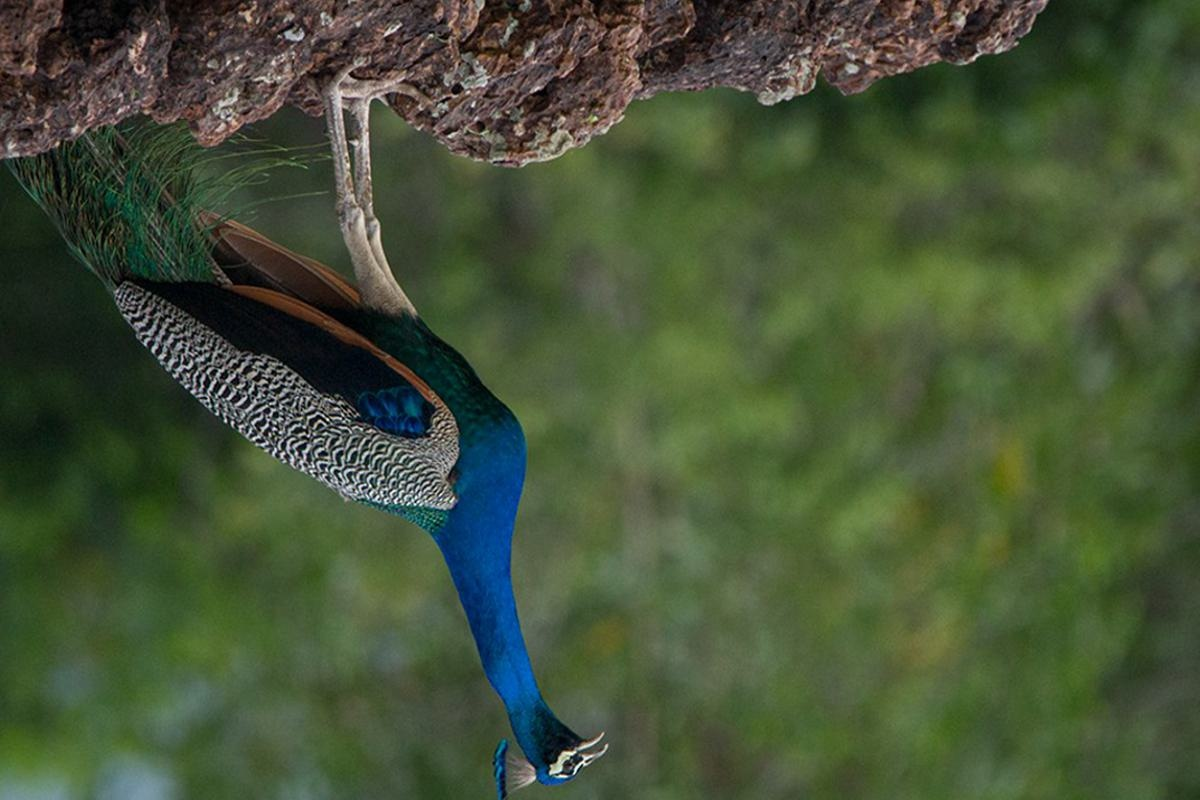peacock: (121, 130, 626, 791)
